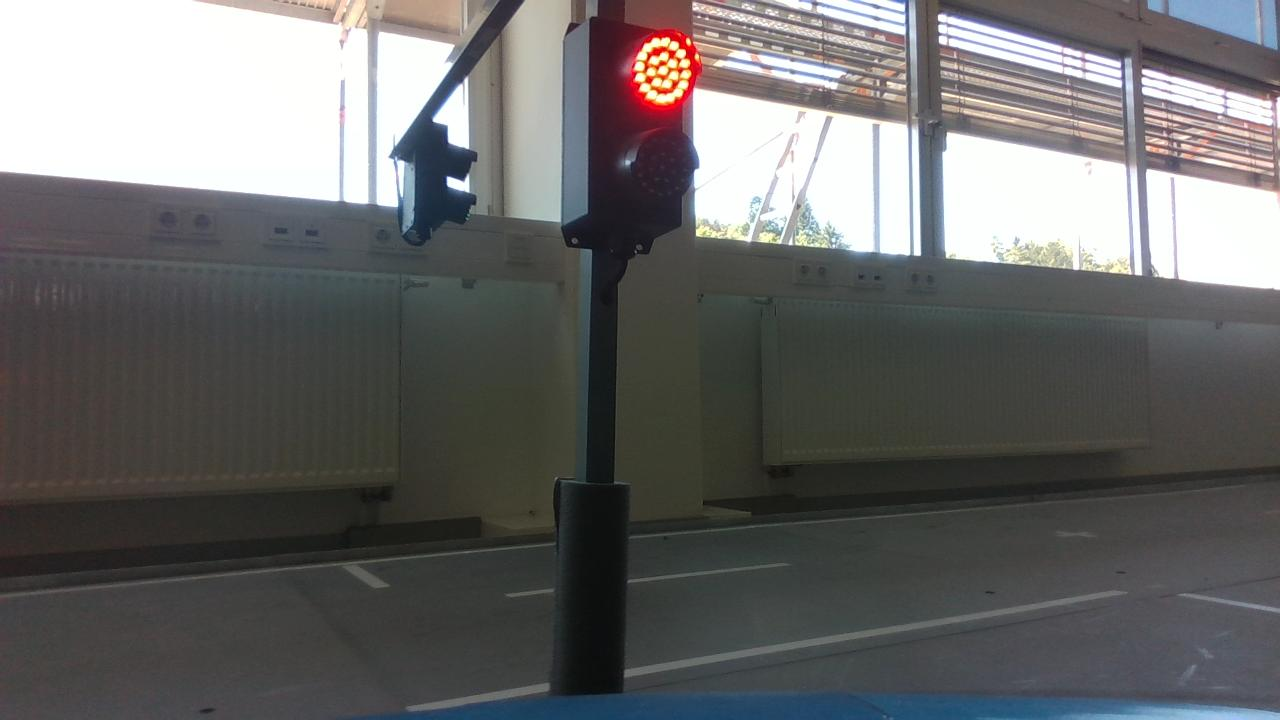traffic_light_red: (547, 11, 699, 267)
